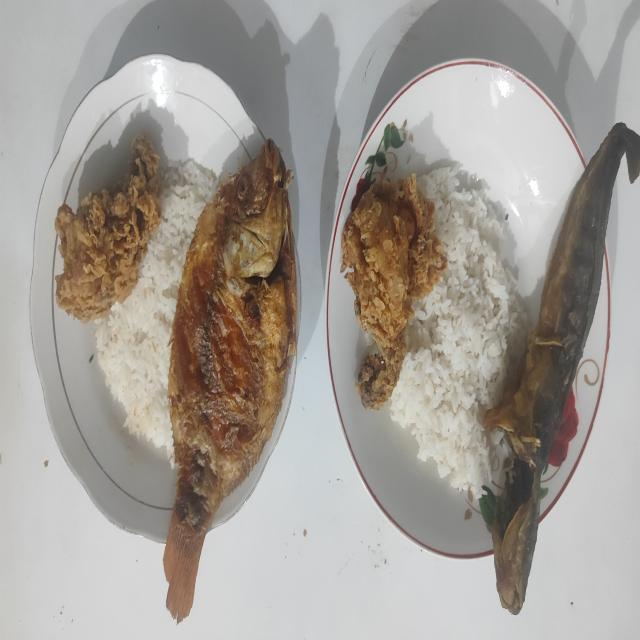ikan_mujair: (163, 139, 297, 622)
nasi_putih: (390, 167, 530, 503), (95, 159, 218, 468)
